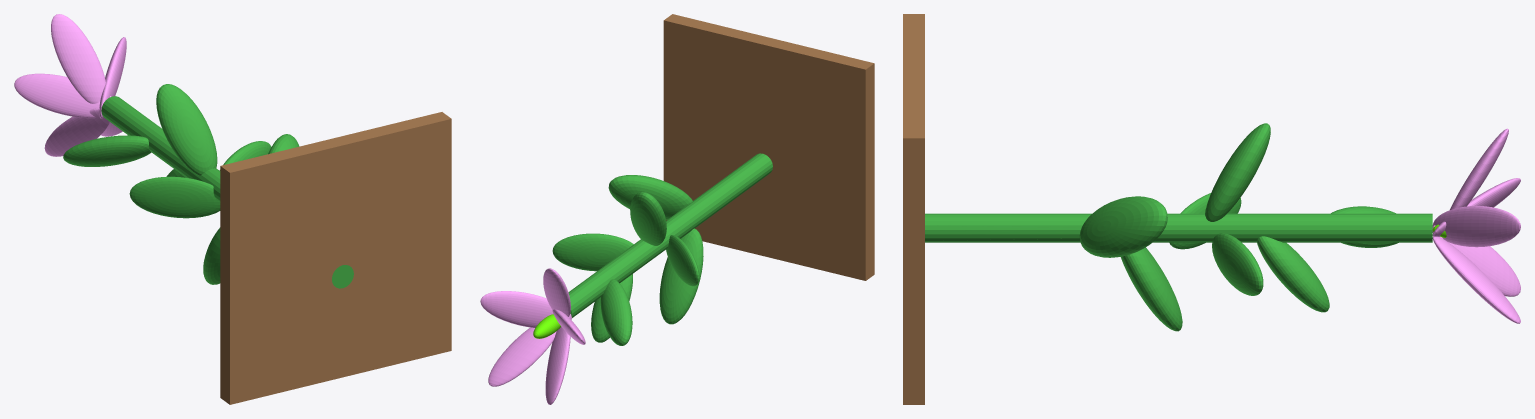
Rendered from tinker.obj.
3 renders of one model, left to right at view 1: azimuth 30°, elevation 25°; view 2: azimuth 150°, elevation 25°; view 3: azimuth 270°, elevation 25°, orthographic. The views are drawn at different scales.
Parts seen in each view (by area): view 1: group_0_11107152, group_0_4634441, group_0_16755711; view 2: group_0_11107152, group_0_4634441, group_0_16755711, group_0_7601933; view 3: group_0_4634441, group_0_11107152, group_0_16755711.
Part boxes in pixels (bbox=[...]): group_0_11107152: bbox=[220, 112, 451, 404]; group_0_4634441: bbox=[63, 84, 353, 288]; group_0_16755711: bbox=[14, 14, 126, 156]; group_0_11107152: bbox=[663, 14, 874, 280]; group_0_4634441: bbox=[552, 153, 772, 345]; group_0_16755711: bbox=[480, 268, 585, 404]; group_0_7601933: bbox=[533, 314, 560, 338]; group_0_4634441: bbox=[925, 123, 1432, 331]; group_0_11107152: bbox=[903, 14, 924, 404]; group_0_16755711: bbox=[1432, 128, 1520, 323].
Bounding box in the file's own units: 40 × 40 × 84.
